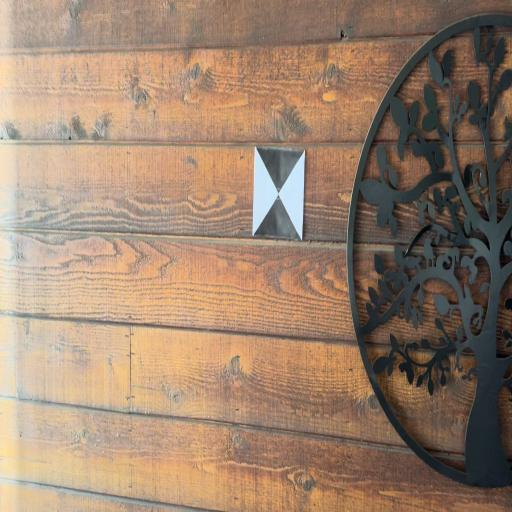target: (254, 146, 306, 240)
